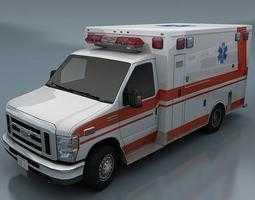car: (0, 22, 251, 191)
